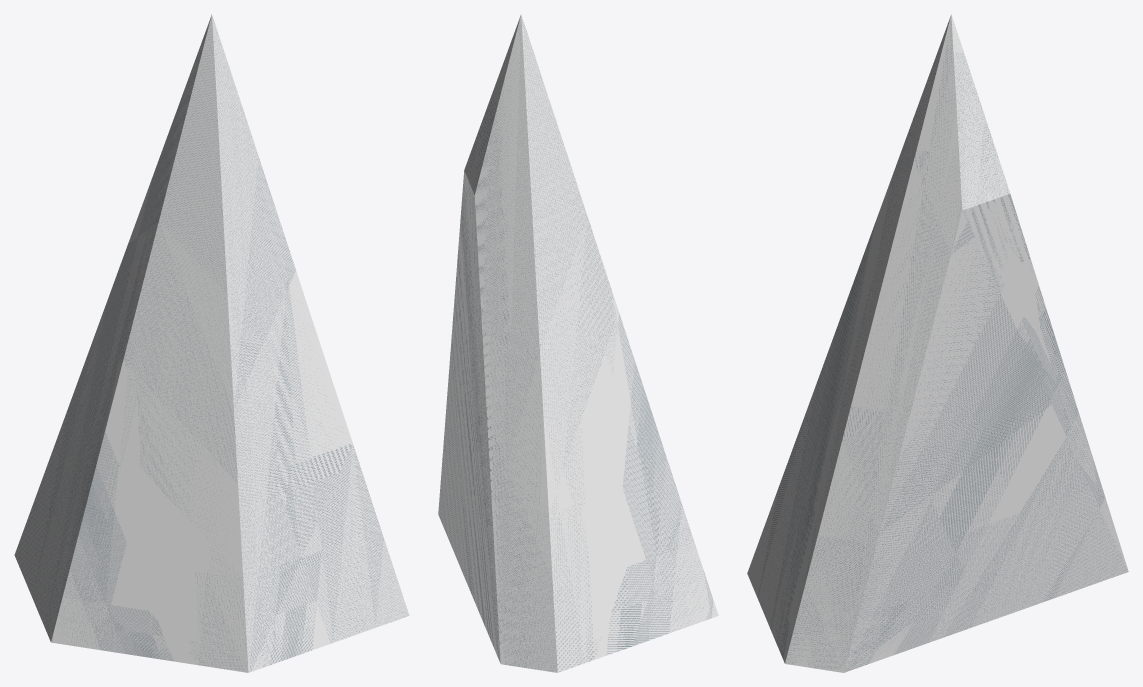
The picture shows the model from 3 angles, left to right: view 1: azimuth 30°, elevation 25°; view 2: azimuth 150°, elevation 25°; view 3: azimuth 270°, elevation 25°; orthographic projection. The views are drawn at different scales.
Parts seen in each view (by area): view 1: Model; view 2: Model; view 3: Model.
Part boxes in pixels (left/top/right/bottom): Model: left=14, top=14, right=409, bottom=672; Model: left=438, top=14, right=718, bottom=672; Model: left=747, top=14, right=1128, bottom=672.
Size of the model in its own units: 3.45 by 6 by 3.51.
